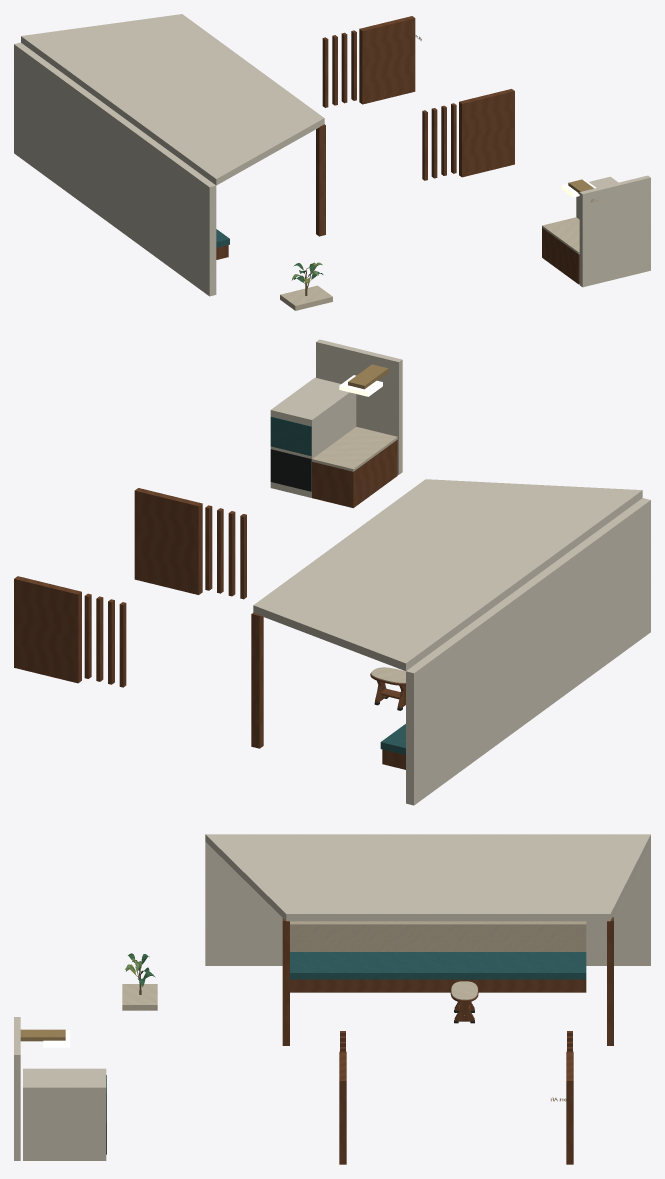
The model's file is port_aft_upper_house.glb.
3 renders of one model, top to bottom at view 1: azimuth 30°, elevation 25°; view 2: azimuth 150°, elevation 25°; view 3: azimuth 270°, elevation 25°, orthographic. The views are drawn at different scales.
Visible parts, largest first — view 1: QuietFanCover, QuietGalleryBacking, CareTaskBacking, InnerPrivacyReturn0, InnerPrivacyReturn1, CareWorkBay, FanBearingPost1, GalleryPlantPlinth, CareStoneSurface, InnerScreenSlat0_1, InnerScreenSlat0_3, InnerScreenSlat1_2; view 2: QuietFanCover, QuietGalleryBacking, InnerPrivacyReturn1, InnerPrivacyReturn0, CareTaskBacking, CareClosedStore, CareWorkBay, CareStoneSurface, FanBearingPost0, CareUsedReturnInset, CareCleanClosedInset, InnerScreenSlat0_3 (+4 smaller); view 3: QuietFanCover, QuietGalleryBacking, FittedQuietBenchBack, FittedQuietBenchCushion, CareClosedStore, FittedQuietBenchFoot, FanBearingPost1, CareTaskBacking, GalleryPlantPlinth, InnerPrivacyReturn0, InnerPrivacyReturn1, FanBearingPost0 (+1 smaller).
Part boxes in pixels (left/top/right/bottom): QuietFanCover: left=21, top=14, right=324, bottom=185; QuietGalleryBacking: left=14, top=42, right=216, bottom=296; CareTaskBacking: left=579, top=175, right=650, bottom=287; InnerPrivacyReturn0: left=359, top=16, right=415, bottom=104; InnerPrivacyReturn1: left=459, top=89, right=514, bottom=177; CareWorkBay: left=542, top=228, right=579, bottom=284; FanBearingPost1: left=316, top=124, right=325, bottom=236; GalleryPlantPlinth: left=280, top=285, right=332, bottom=310; CareStoneSurface: left=542, top=217, right=579, bottom=254; InnerScreenSlat0_1: left=341, top=32, right=347, bottom=103; InnerScreenSlat0_3: left=322, top=37, right=328, bottom=107; InnerScreenSlat1_2: left=431, top=108, right=437, bottom=178; QuietFanCover: left=253, top=479, right=642, bottom=671; QuietGalleryBacking: left=406, top=498, right=650, bottom=805; InnerPrivacyReturn1: left=134, top=488, right=202, bottom=594; InnerPrivacyReturn0: left=14, top=576, right=81, bottom=683; CareTaskBacking: left=316, top=339, right=402, bottom=474; CareClosedStore: left=270, top=377, right=356, bottom=497; CareWorkBay: left=312, top=440, right=397, bottom=508; CareStoneSurface: left=312, top=427, right=397, bottom=471; FanBearingPost0: left=251, top=612, right=263, bottom=748; CareUsedReturnInset: left=270, top=449, right=311, bottom=491; CareCleanClosedInset: left=270, top=416, right=311, bottom=455; InnerScreenSlat0_3: left=119, top=602, right=126, bottom=687; QuietFanCover: left=205, top=834, right=650, bottom=921; QuietGalleryBacking: left=205, top=842, right=650, bottom=965; FittedQuietBenchBack: left=290, top=921, right=586, bottom=951; FittedQuietBenchCushion: left=290, top=952, right=586, bottom=979; CareClosedStore: left=23, top=1068, right=106, bottom=1160; FittedQuietBenchFoot: left=290, top=979, right=586, bottom=992; FanBearingPost1: left=282, top=918, right=289, bottom=1045; CareTaskBacking: left=14, top=1017, right=20, bottom=1160; GalleryPlantPlinth: left=122, top=984, right=157, bottom=1010; InnerPrivacyReturn0: left=566, top=1051, right=573, bottom=1164; InnerPrivacyReturn1: left=339, top=1051, right=346, bottom=1164; FanBearingPost0: left=607, top=917, right=613, bottom=1045.
Bounding box in the file's own units: 10.65 × 3.23 × 14.15.
23 materials, 22 textured.
